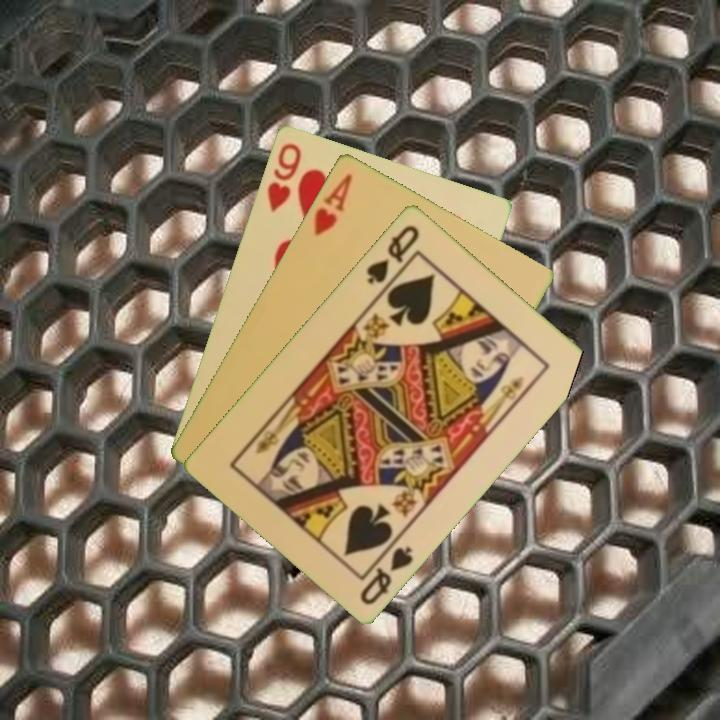9h: (263, 138, 304, 214)
Ah: (310, 169, 356, 239)
Qs: (356, 533, 416, 608), (363, 221, 423, 287)
